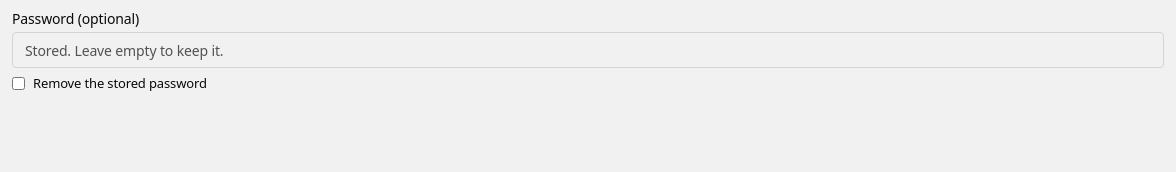
SecretField › offers to remove an optional stored secret and disables the field while ticked
Type "typo" into the password field labelled "Password (optional)" at point(588, 50), box [12,32,1164,68]
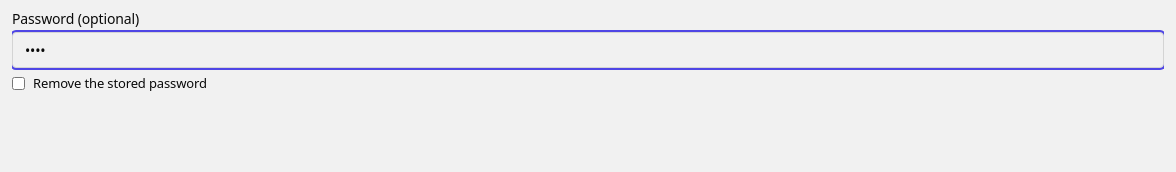
Click the checkbox labelled "Remove the stored password" at point(18, 84), box [12,77,25,90]
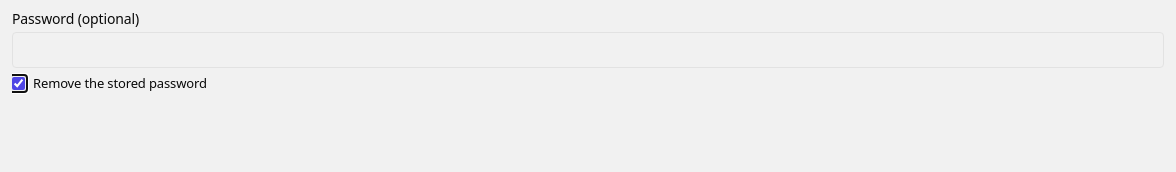
Check: the password field labelled "Password (optional)" is empty, box [12,32,1164,68]
Click the checkbox labelled "Remove the stored password" at point(18, 84), box [12,77,25,90]
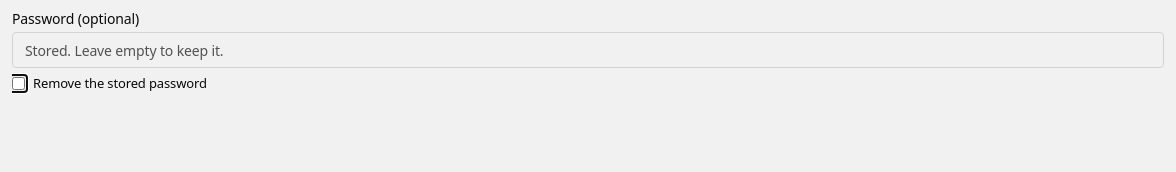
Check: the password field labelled "Password (optional)" is enabled, box [12,32,1164,68]
